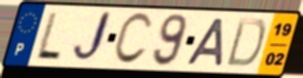9: (151, 13, 189, 68)
A: (183, 16, 227, 68)
C: (110, 11, 155, 67)
D: (223, 16, 268, 70)
J: (70, 9, 115, 65)
L: (33, 10, 64, 62)
